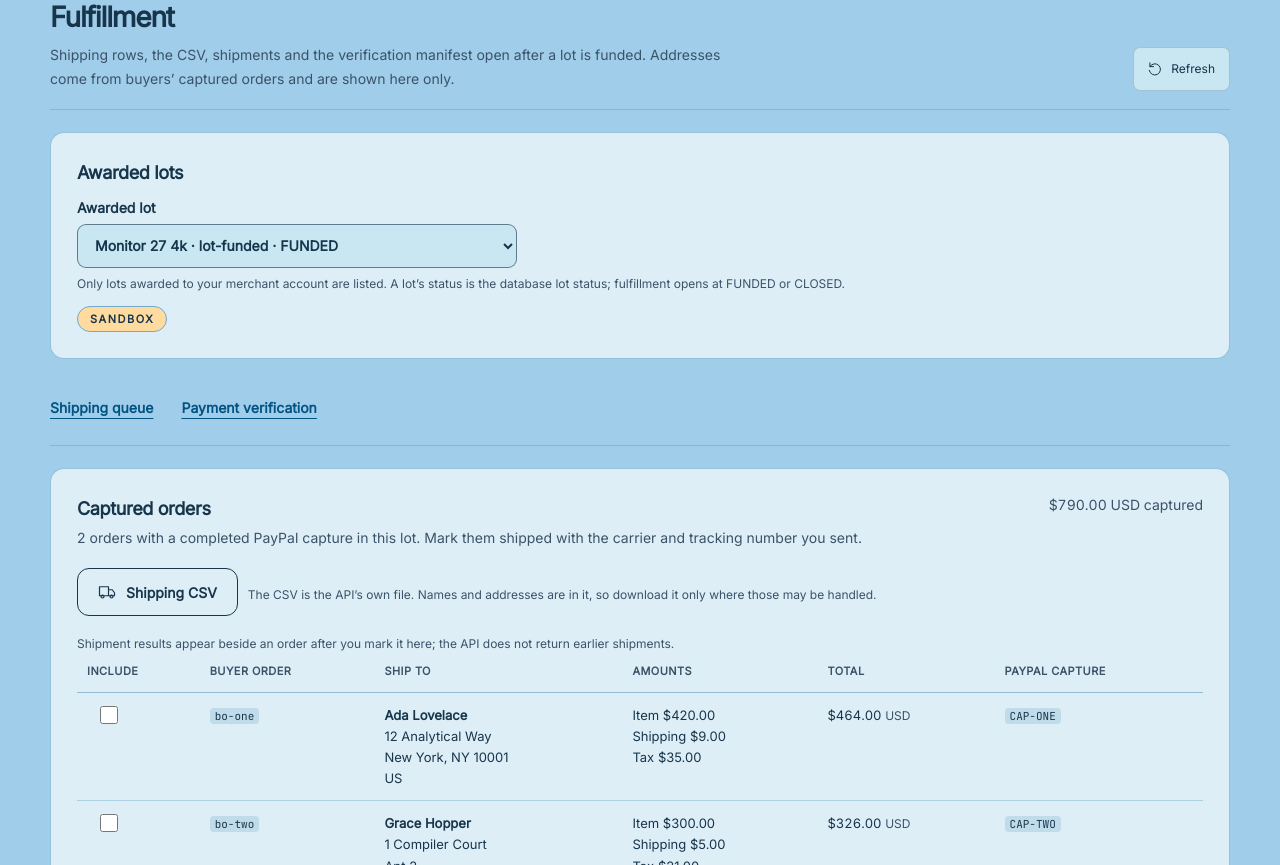
it: Fulfillment tab › records the selected shipments and reports each row and its tracker answer
Expected: the heading "Captured orders" is shown, top-left (77, 498), bottom-right (210, 520)
Click the checkbox named "Select order bo-one": (109, 715) top-left (100, 706), bottom-right (118, 724)
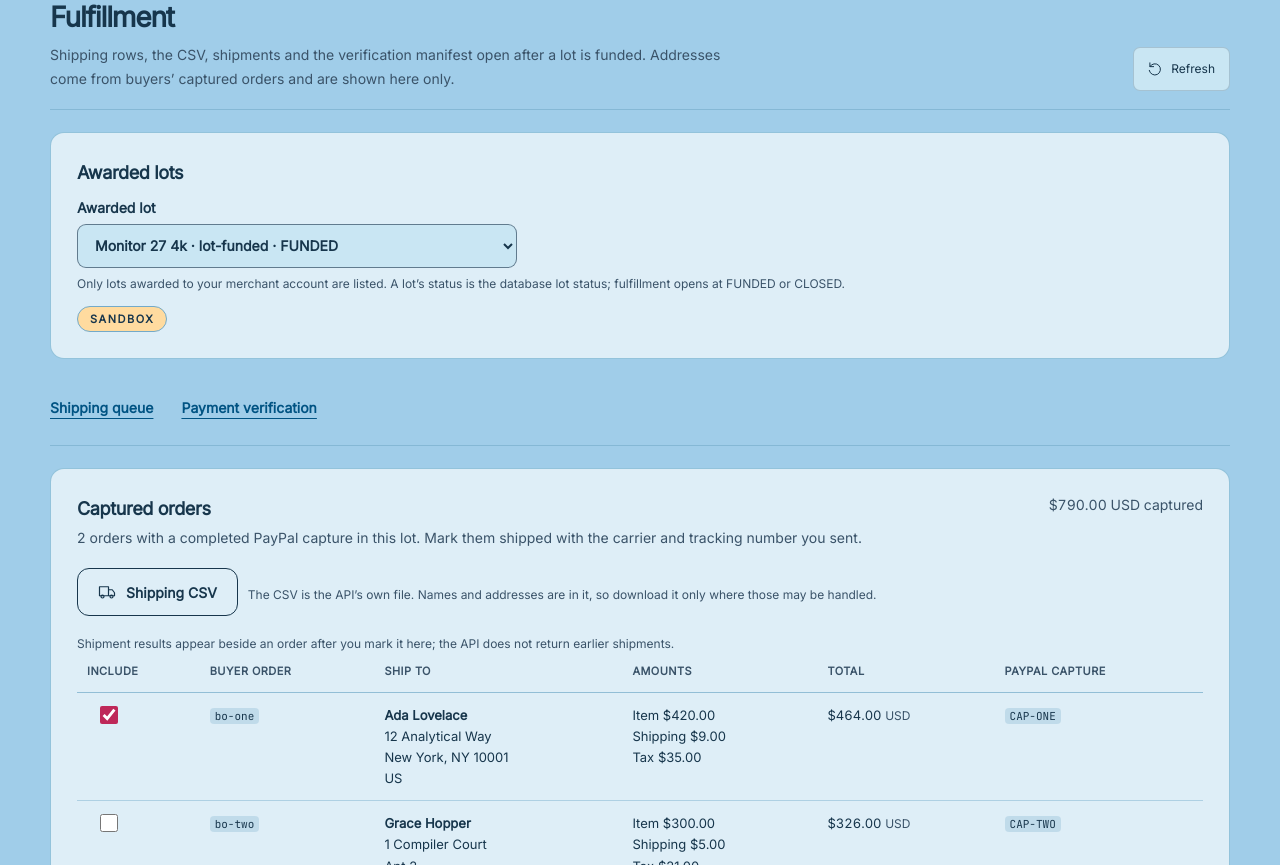
Click the checkbox named "Select order bo-two": (109, 823) top-left (100, 814), bottom-right (118, 832)
(page scrolled)
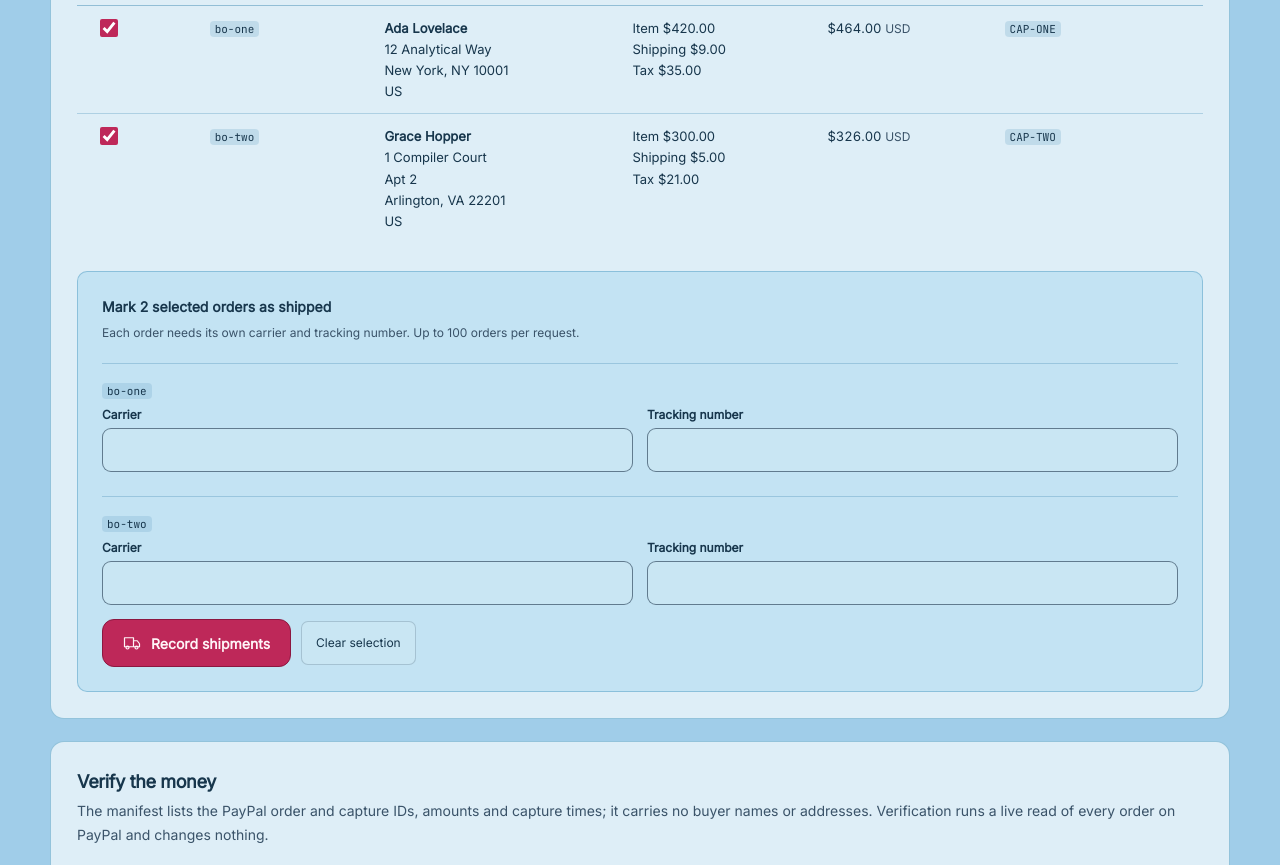
In the field named "Carrier for bo-one": (368, 450) top-left (102, 428), bottom-right (633, 472), type "UPS"
In the field named "Tracking number for bo-one": (912, 450) top-left (647, 428), bottom-right (1178, 472), type "1Z999"
In the field named "Carrier for bo-two": (368, 583) top-left (102, 561), bottom-right (633, 605), type "USPS"
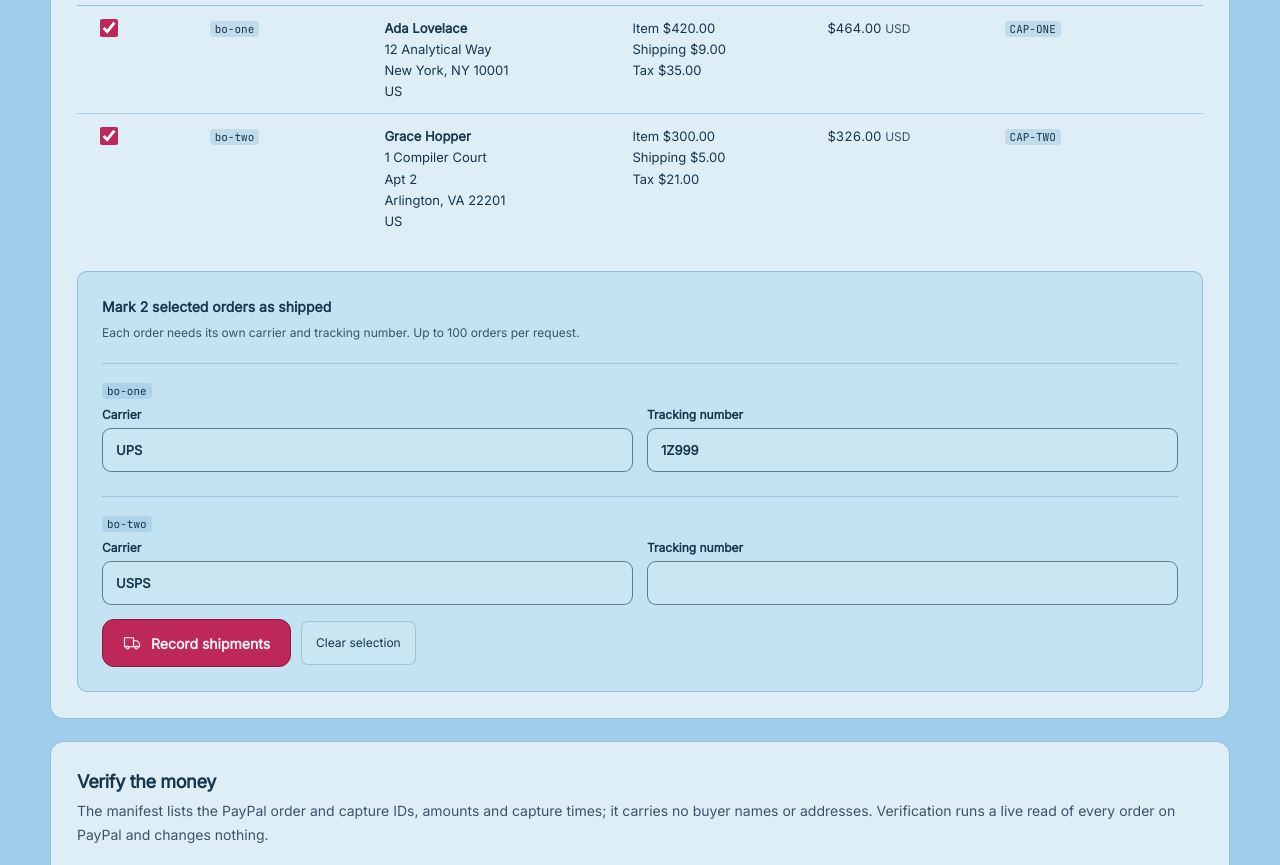
In the field named "Tracking number for bo-two": (912, 583) top-left (647, 561), bottom-right (1178, 605), type "9400"
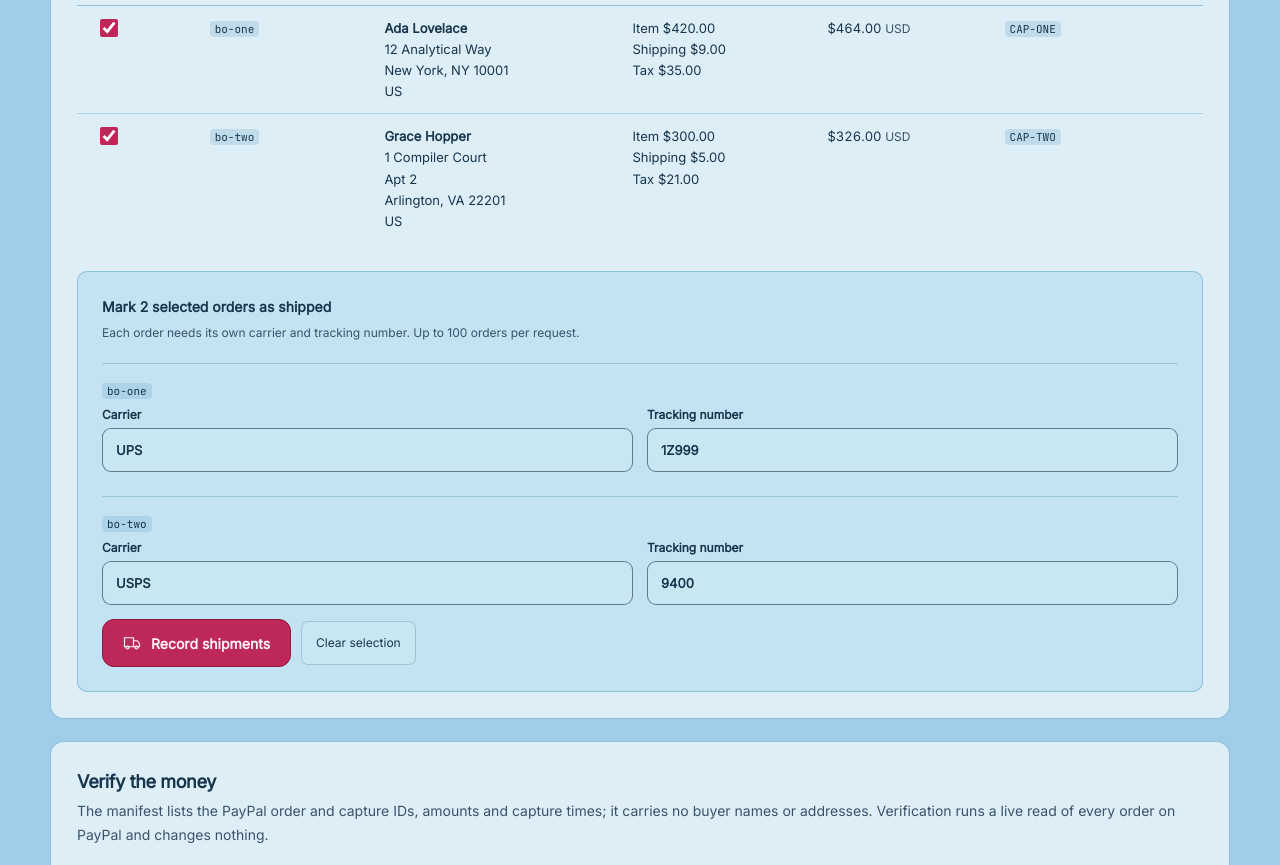
Click the button "Record shipments": (197, 643) top-left (102, 619), bottom-right (291, 667)
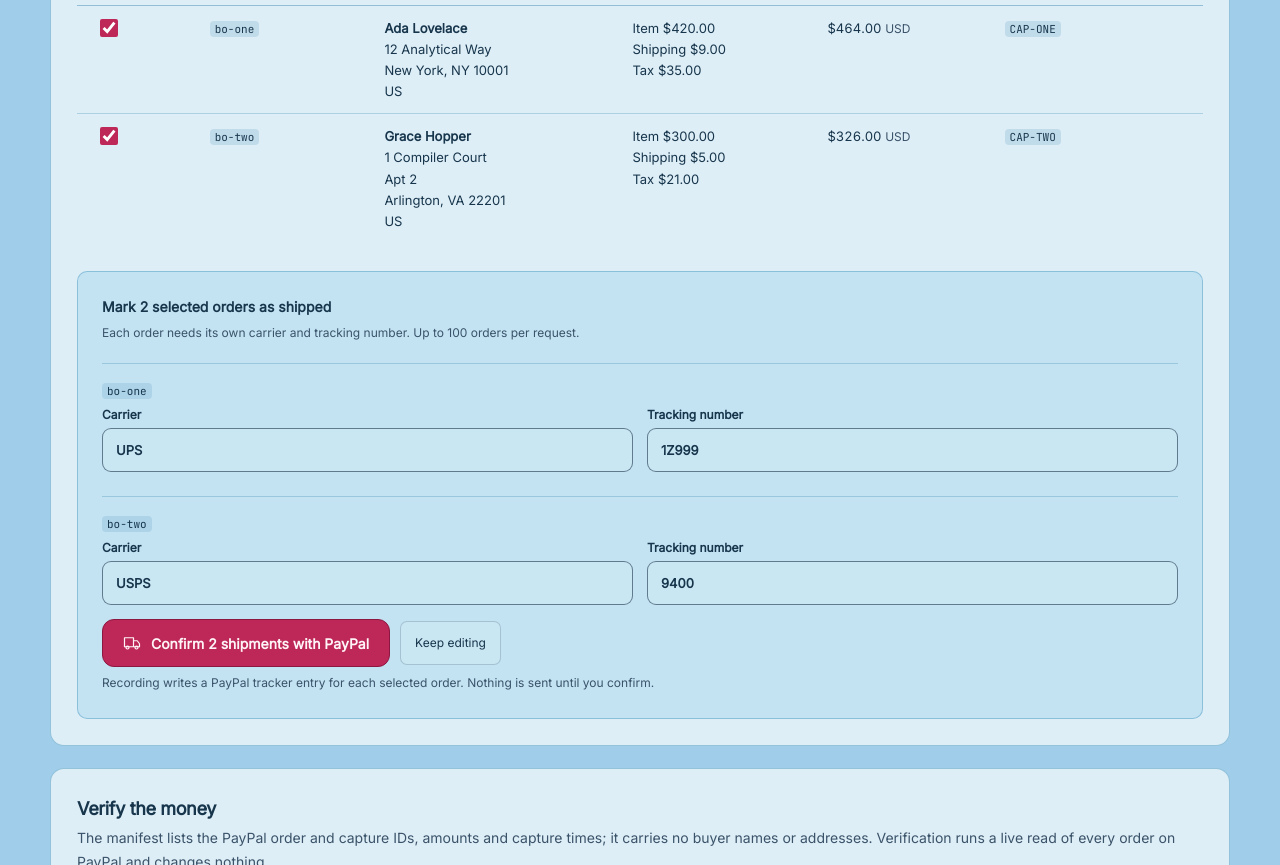
Click the button "Confirm 2 shipments with PayPal": (246, 643) top-left (102, 619), bottom-right (390, 667)
(page scrolled)
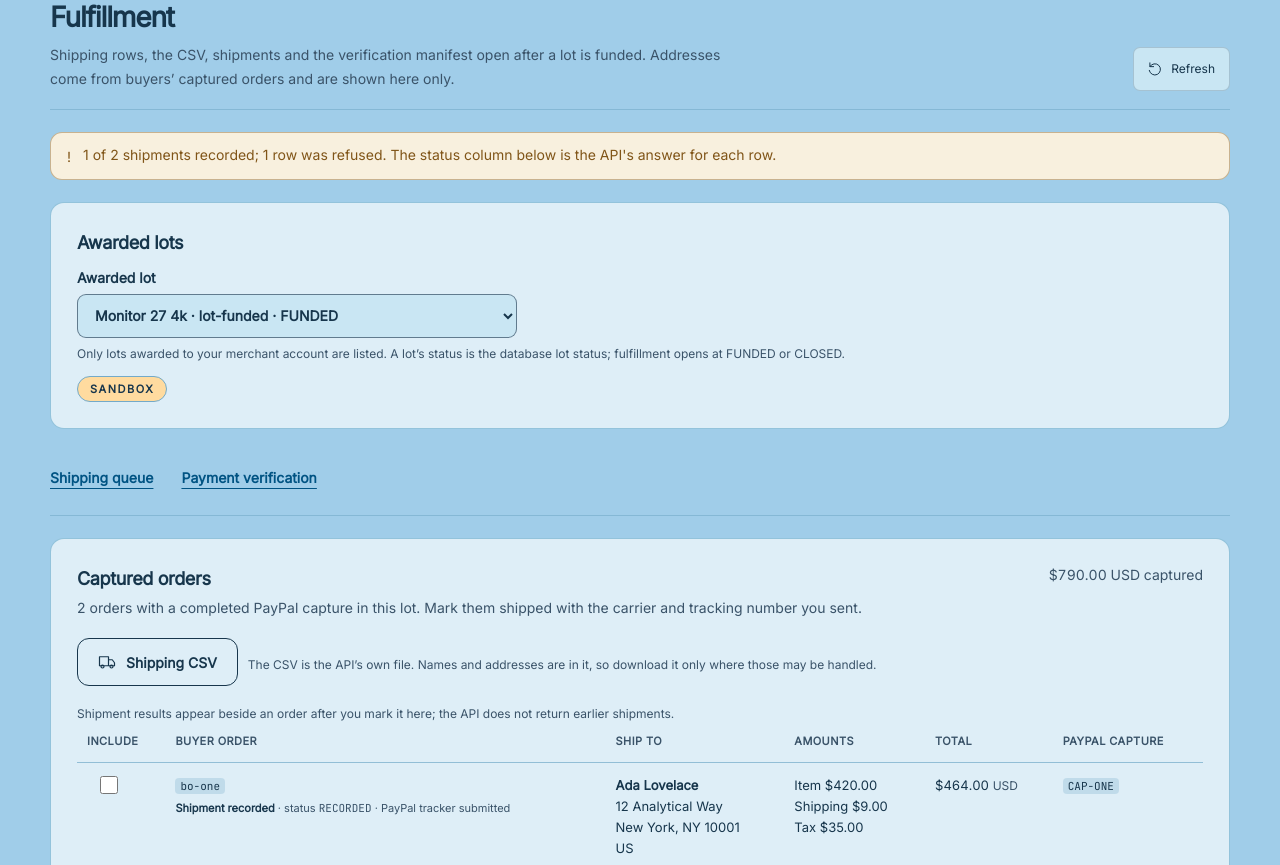
Now the text "Shipment recorded" is shown, box top-left (175, 801), bottom-right (275, 815)
Now the text "Shipment recorded · status RECORDED · PayPal tracker submitted" is shown, box top-left (175, 801), bottom-right (510, 815)
Now the text "1 of 2 shipments recorded" is shown, box top-left (83, 146), bottom-right (776, 163)
